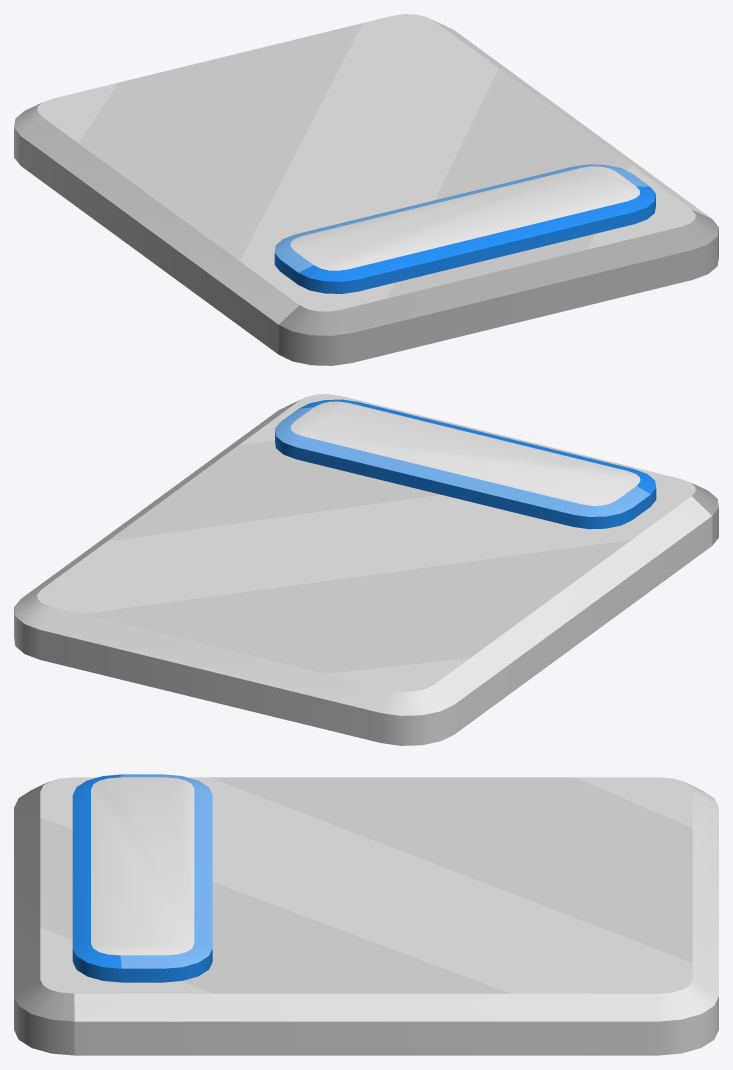
The model's file is MergePlatform2.fbx.
The picture shows the model from 3 angles, top to bottom: view 1: azimuth 30°, elevation 25°; view 2: azimuth 150°, elevation 25°; view 3: azimuth 270°, elevation 25°; orthographic projection. The views are drawn at different scales.
Visible parts, largest first — view 1: Plane.016; view 2: Plane.016; view 3: Plane.016.
Part boxes in pixels (x1=…): Plane.016: x1=14, y1=14, x2=718, y2=365; Plane.016: x1=14, y1=394, x2=718, y2=745; Plane.016: x1=14, y1=774, x2=718, y2=1055.
Size of the model in its own units: 763 by 103 by 950.
